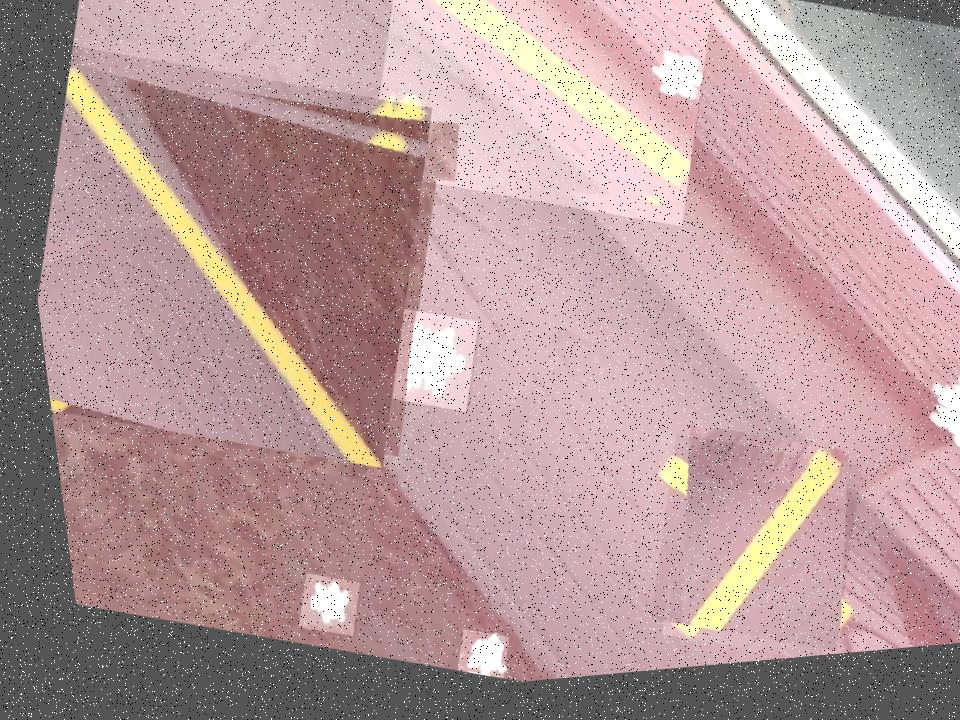dent: (356, 307, 478, 426), (890, 366, 960, 485), (618, 64, 708, 151), (277, 575, 350, 645), (434, 633, 494, 689), (168, 0, 238, 9)
scratch: (5, 22, 462, 496), (343, 0, 734, 259), (614, 432, 865, 677)
